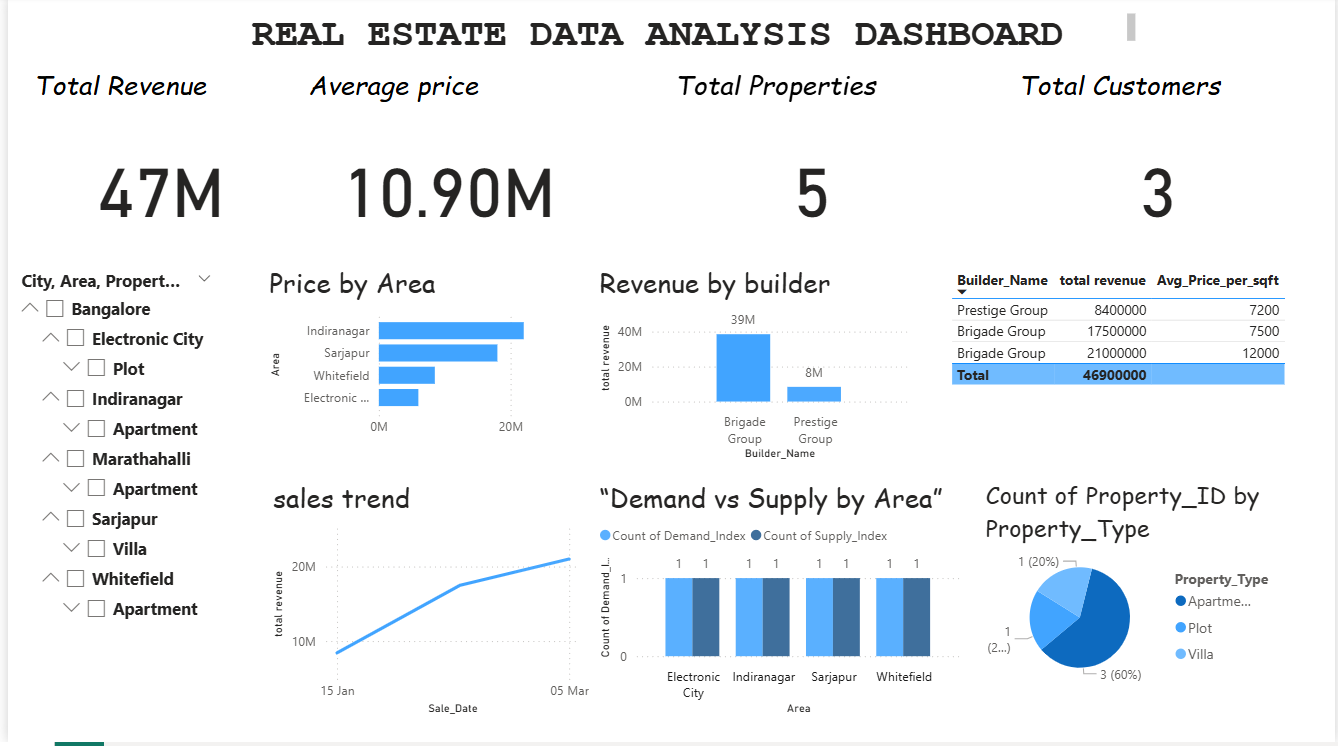

This screenshot's page, from the dashboard's own definition file:
{"tool":"powerbi","page":{"name":"Page 1","canvas":[1280,720],"ordinal":0},"visuals":[{"type":"card","title":"Total Revenue","fields":{"Values":["Builders.total revenue"]},"box":[20.5,67.6,254.6,190.6],"z":0},{"type":"card","title":"Total Customers","fields":{"Values":["Builders.Total Customers"]},"box":[971.2,67.6,278.7,190.6],"z":1000},{"type":"card","title":"Average price","fields":{"Values":["Builders.Avg Price"]},"box":[284.7,67.6,281.1,190.6],"z":2000},{"type":"card","title":"Total Properties","fields":{"Values":["Builders.Total Properties"]},"box":[639.4,67.6,272.7,190.6],"z":3000},{"type":"columnChart","title":"Revenue by builder ","fields":{"Category":["Builders.Builder_Name"],"Y":["Builders.total revenue"]},"box":[565.8,258.2,307.6,194.2],"z":4000},{"type":"barChart","title":" Price by Area","fields":{"Category":["Market_Trends.Area"],"Y":["Builders.Avg Price"]},"box":[247.3,258.2,318.5,176.1],"z":5000},{"type":"lineChart","title":"sales trend","fields":{"Y":["Builders.total revenue"],"Category":["Transactions.Sale_Date"]},"box":[250.9,465.7,314.9,232.8],"z":6000},{"type":"pieChart","fields":{"Category":["Properties.Property_Type"],"Y":["CountNonNull(Properties.Property_ID)"]},"box":[938.6,465.7,287.1,206.3],"z":7000},{"type":"tableEx","fields":{"Values":["Builders.Builder_Name","Builders.total revenue","Market_Trends.Avg_Price_per_sqft"]},"box":[904.8,258.2,375.2,197.9],"z":8000},{"type":"slicer","fields":{"Values":["Builders.City","Properties.Area","Properties.Property_Type","Builders.Builder_Name","Properties.BHK"]},"box":[0,258.2,208.7,394.5],"z":9000},{"type":"clusteredColumnChart","title":"“Demand vs Supply by Area”","fields":{"Category":["Market_Trends.Area"],"Y":["CountNonNull(Market_Trends.Demand_Index)","CountNonNull(Market_Trends.Supply_Index)"]},"box":[566.2,466.2,358.8,232.5],"z":10000},{"type":"textbox","box":[168.9,12.1,924.1,43.4],"z":11000}]}

Visuals, with their boxes in screenshot pixels (x1, y1, x2, y2), scaled from the page's 1280x720 canvas onto the 1338x746 screenshot:
"Total Revenue" card: 21/70/288/268
"Total Customers" card: 1015/70/1307/268
"Average price" card: 298/70/591/268
"Total Properties" card: 668/70/953/268
"Revenue by builder " columnChart: 591/268/913/469
" Price by Area" barChart: 259/268/591/450
"sales trend" lineChart: 262/483/591/724
pieChart - Properties.Property_Type x CountNonNull(Properties.Property_ID): 981/483/1281/696
tableEx - Builders.Builder_Name x Builders.total revenue: 946/268/1337/473
slicer - Builders.City x Properties.Area: 0/268/218/676
"“Demand vs Supply by Area”" clusteredColumnChart: 592/483/967/724
textbox: 177/13/1143/58
